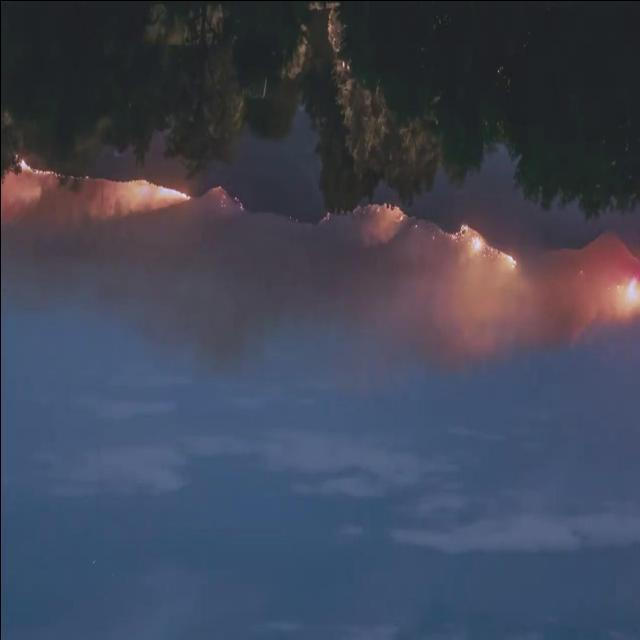Fire: (442, 223, 516, 270), (121, 180, 190, 210), (18, 154, 56, 184), (614, 273, 638, 309), (376, 201, 404, 225), (212, 184, 225, 194), (323, 212, 331, 222)
